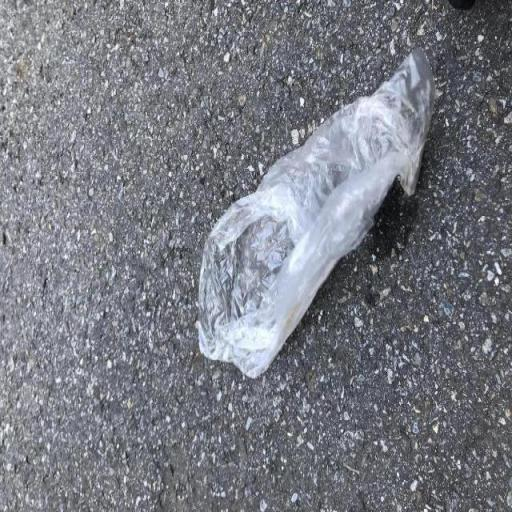plastic-bag: (194, 40, 440, 378)
